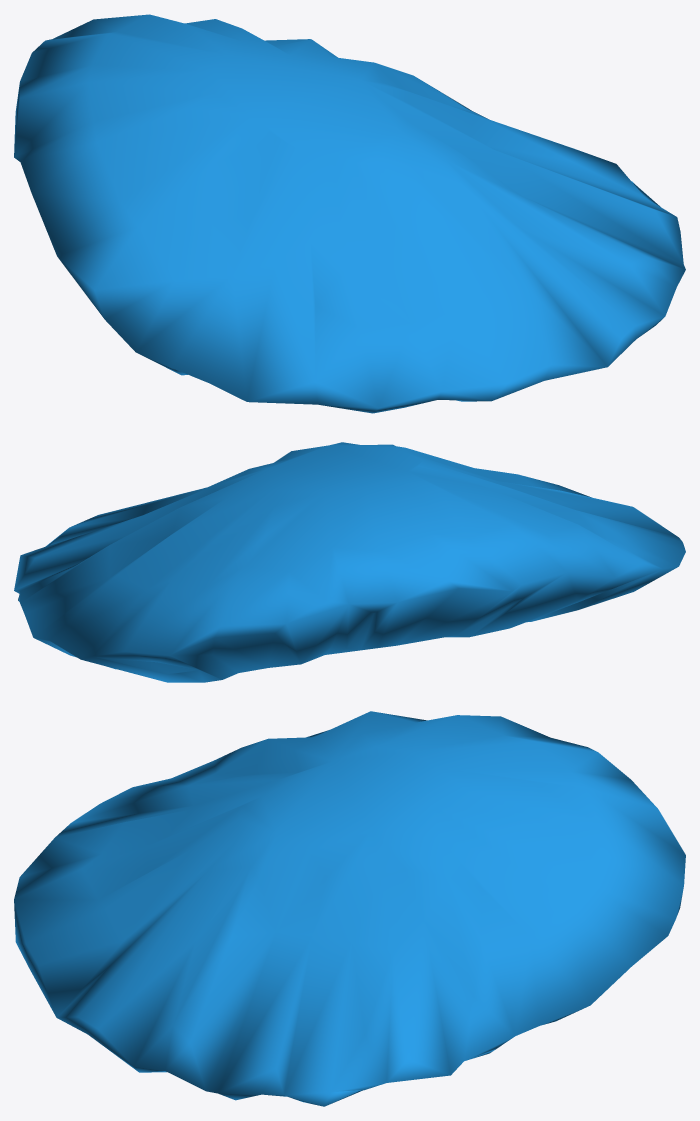
Rendered from SM_mushroom_blue_03.fbx.
The picture shows the model from 3 angles, top to bottom: view 1: azimuth 30°, elevation 25°; view 2: azimuth 150°, elevation 25°; view 3: azimuth 270°, elevation 25°; orthographic projection. The views are drawn at different scales.
Visible parts, largest first — view 1: mushroom_blue_03; view 2: mushroom_blue_03; view 3: mushroom_blue_03.
Part boxes in pixels (x1,y1,x2,y2): mushroom_blue_03: (14,14,685,413); mushroom_blue_03: (14,442,685,682); mushroom_blue_03: (14,711,685,1106).
Size of the model in its own units: 437 by 164 by 458.
